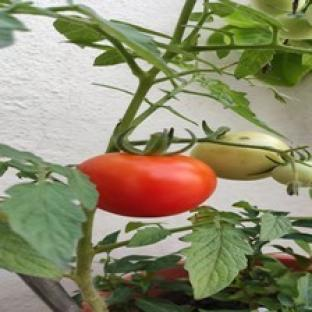Tomato: (78, 154, 217, 217), (191, 131, 288, 179), (272, 161, 311, 186), (278, 14, 311, 40), (306, 6, 311, 26)
